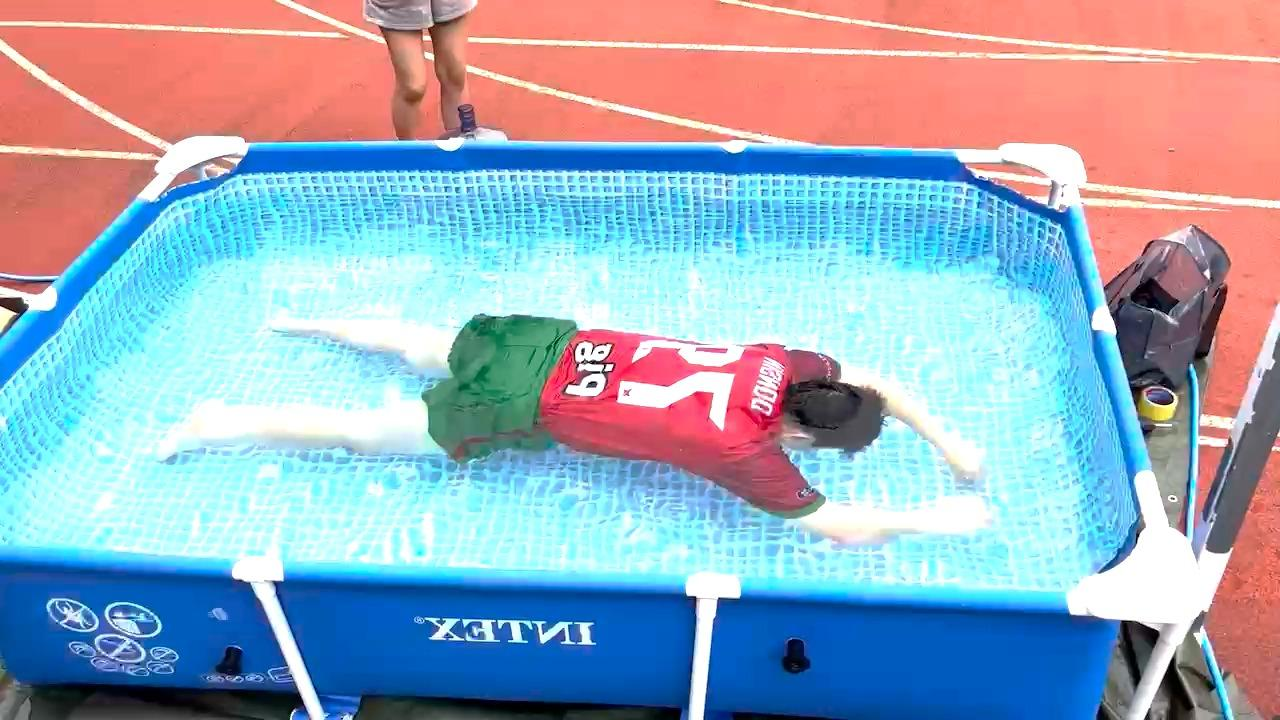Drowning: (172, 300, 1043, 534)
